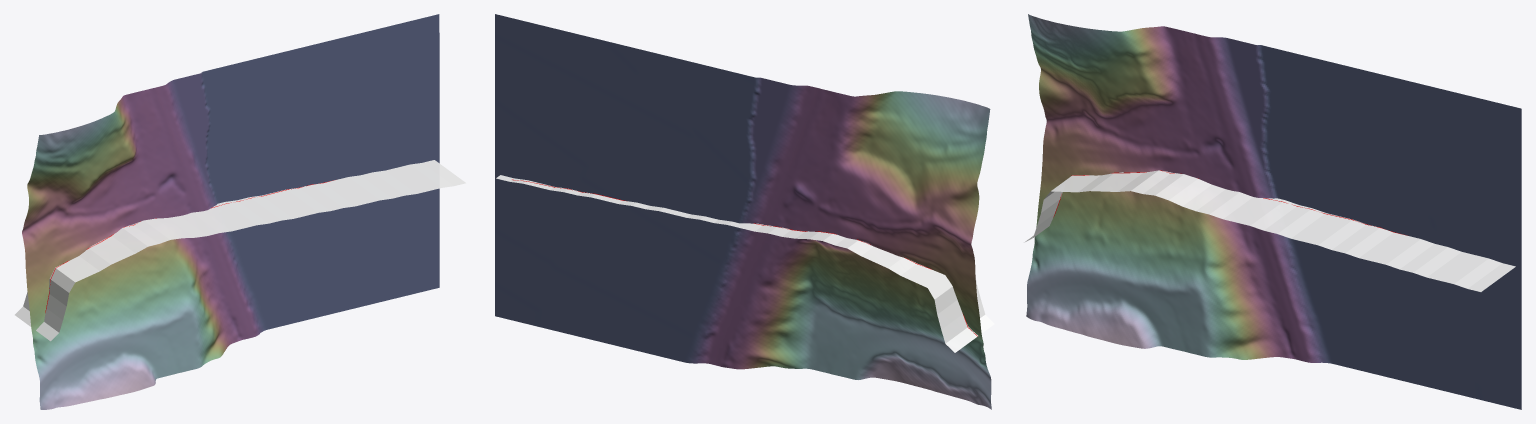
Rendered from domain.glb.
The picture shows the model from 3 angles, left to right: view 1: azimuth 30°, elevation 25°; view 2: azimuth 150°, elevation 25°; view 3: azimuth 330°, elevation 25°; orthographic projection. The views are drawn at different scales.
Size of the model in its own units: 344 by 212 by 50.82.
